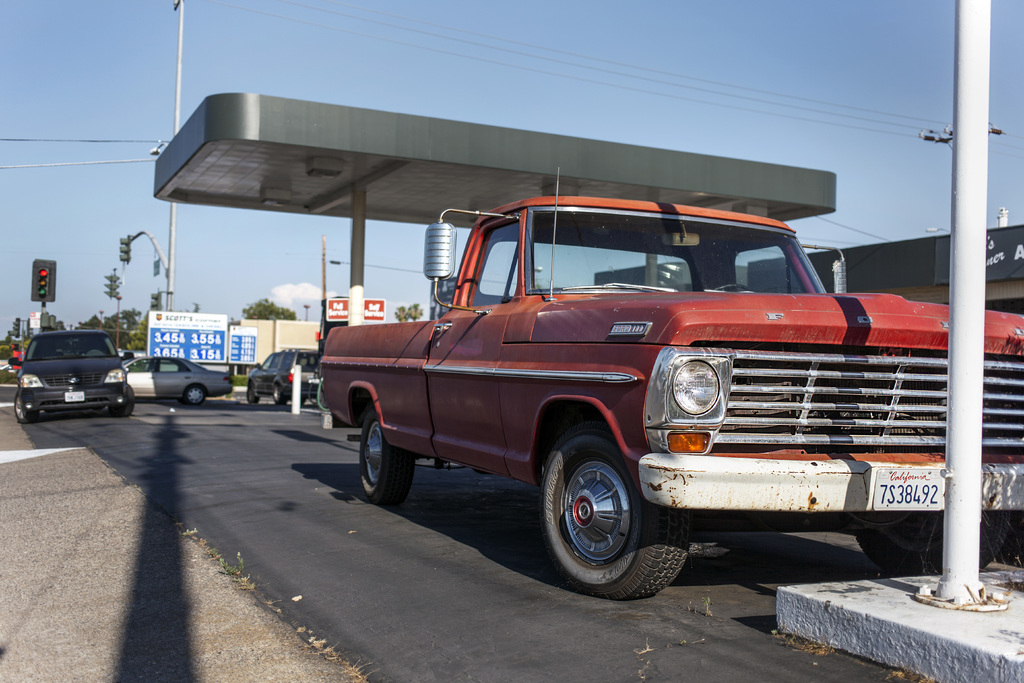Car: (16, 328, 132, 425), (121, 353, 237, 397), (246, 345, 318, 404)
